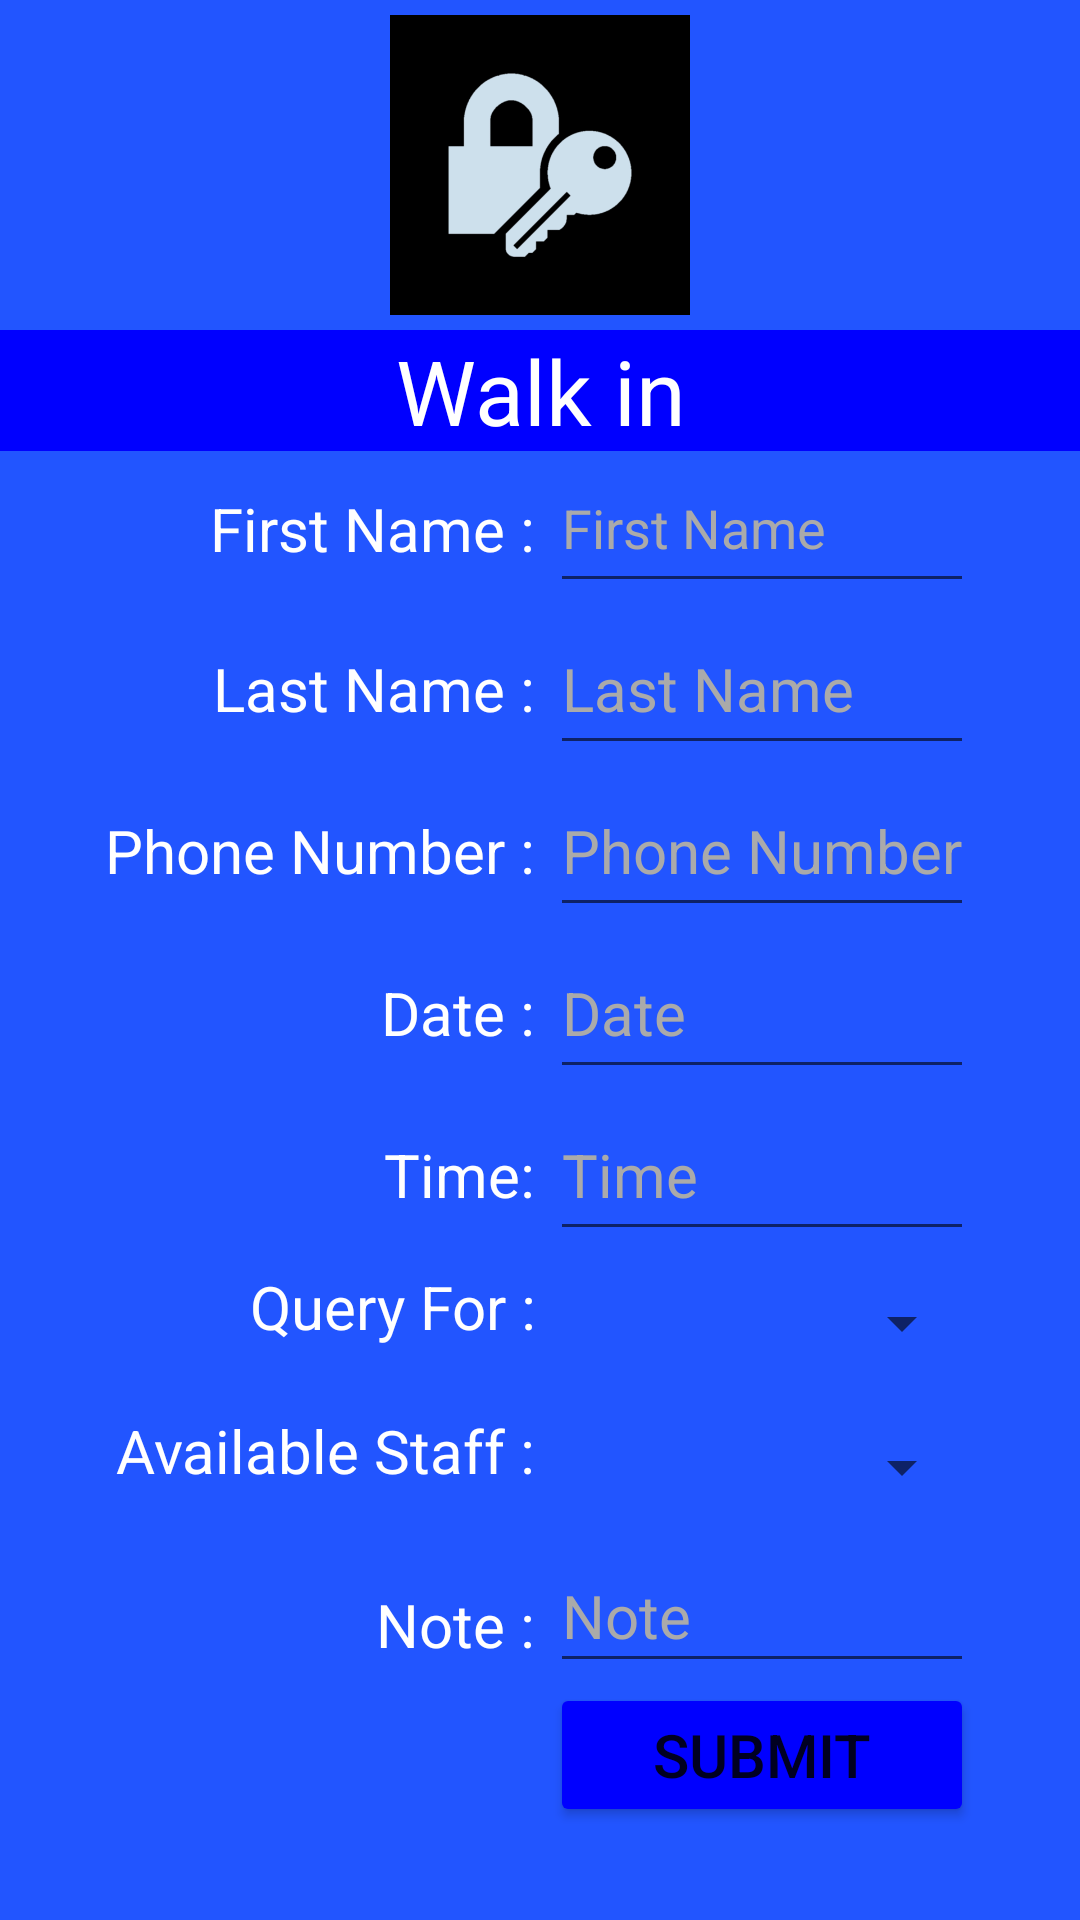

Named icons in this screenshot (1080px x 1920px) and their centers, [x,y]:
security: [540,165]
